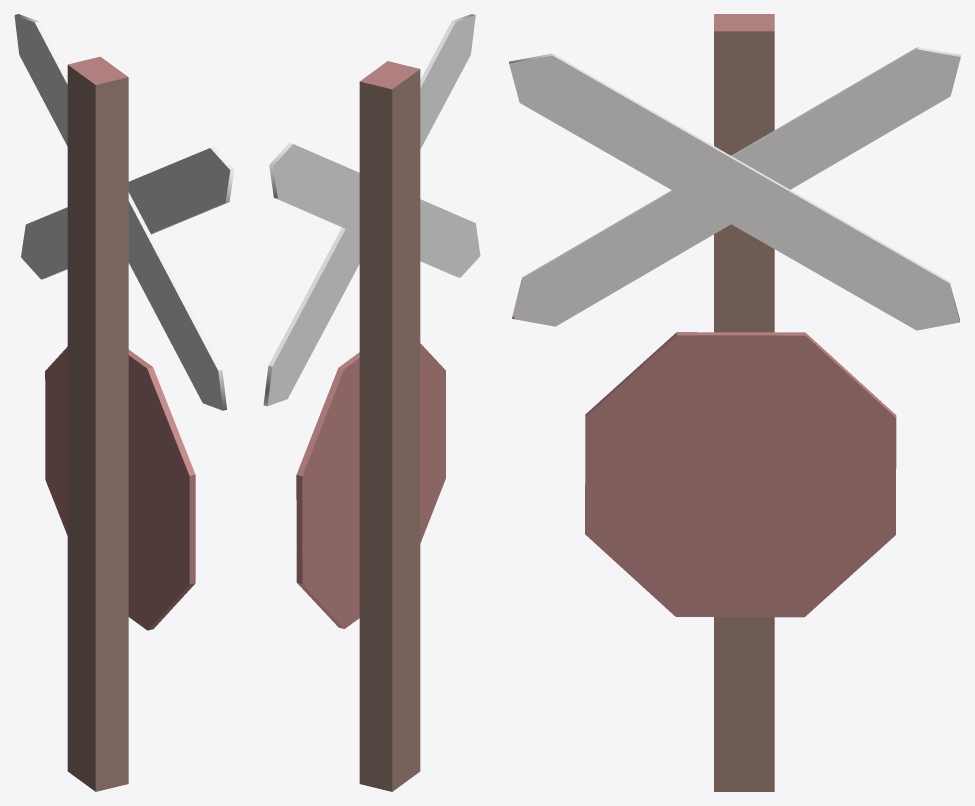
The model's file is 信號標.fbx.
3 renders of one model, left to right at view 1: azimuth 30°, elevation 25°; view 2: azimuth 150°, elevation 25°; view 3: azimuth 270°, elevation 25°, orthographic. The views are drawn at different scales.
Parts seen in each view (by area): view 1: Signal_beacon; view 2: Signal_beacon; view 3: Signal_beacon.
Part boxes in pixels (x1,y1,x2,y2): Signal_beacon: (14, 14, 234, 791); Signal_beacon: (263, 14, 480, 791); Signal_beacon: (509, 14, 960, 791).
Bounding box in the file's own units: 0.633 × 9.83 × 5.29.
